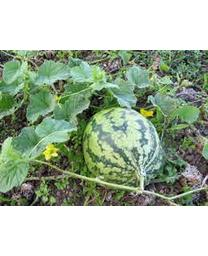watermelon: (81, 107, 164, 189)
